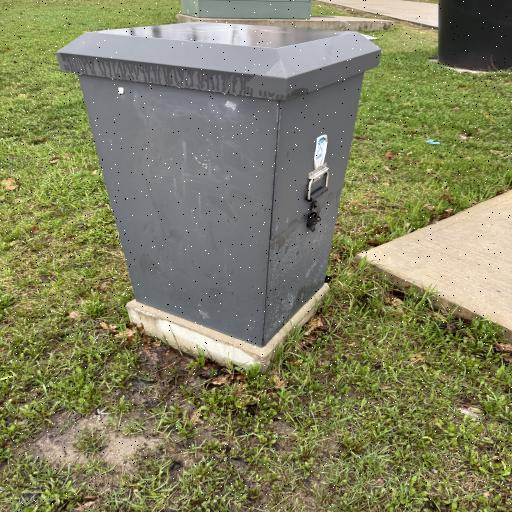Electrical Box: (56, 23, 382, 351)
